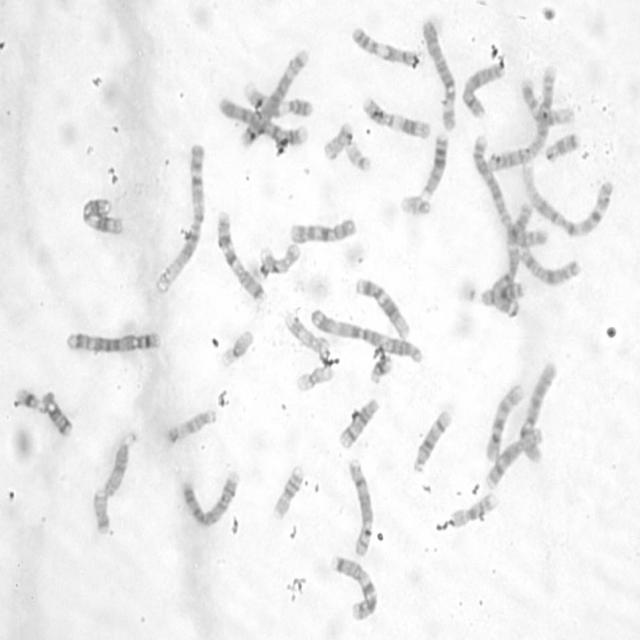A1: (151, 139, 206, 297), (519, 158, 615, 239)
A2: (471, 130, 550, 250), (484, 63, 556, 172)
A3: (308, 306, 424, 364), (488, 198, 533, 318)
B4: (216, 94, 308, 147), (178, 468, 241, 528)
B5: (237, 45, 311, 150), (64, 328, 162, 355)
C10: (482, 381, 526, 464), (288, 214, 358, 244)
C11: (359, 93, 432, 141), (79, 192, 124, 237)
C12: (353, 274, 412, 340), (518, 75, 576, 128)
C6: (418, 15, 458, 132), (517, 358, 559, 466)
C7: (214, 208, 268, 305), (328, 551, 380, 623)
C8: (484, 423, 544, 491), (344, 455, 376, 558)
C9: (350, 23, 422, 69), (242, 79, 314, 119)
D13: (418, 129, 449, 200), (462, 277, 528, 305)
D14: (411, 406, 454, 474), (336, 394, 381, 451)
D15: (101, 428, 140, 499), (164, 406, 218, 445)
E16: (270, 462, 306, 522), (448, 490, 498, 530)
E17: (281, 308, 331, 357), (256, 240, 302, 278)
E18: (40, 389, 75, 439), (543, 129, 580, 163)
F19: (218, 326, 255, 368), (294, 362, 334, 393)
F20: (321, 117, 354, 162), (90, 484, 112, 536)
G21: (367, 348, 394, 386), (12, 384, 44, 413)
G22: (343, 139, 372, 172), (398, 192, 432, 218)
X: (515, 242, 582, 288), (459, 56, 507, 119)
